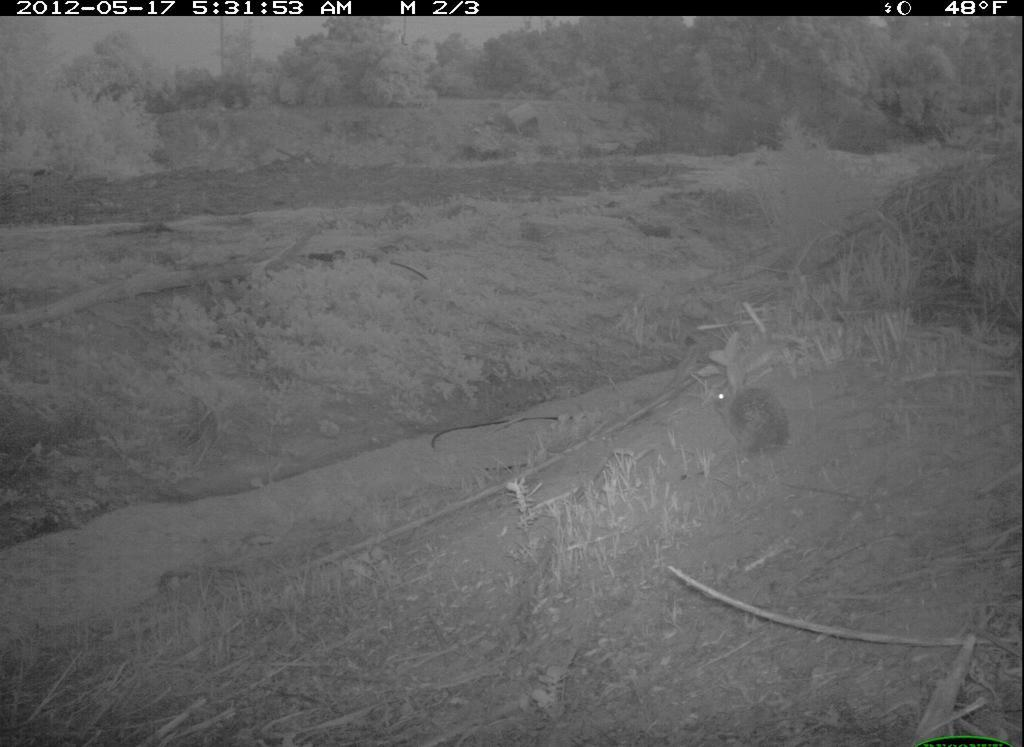rabbit: (694, 350, 808, 466)
